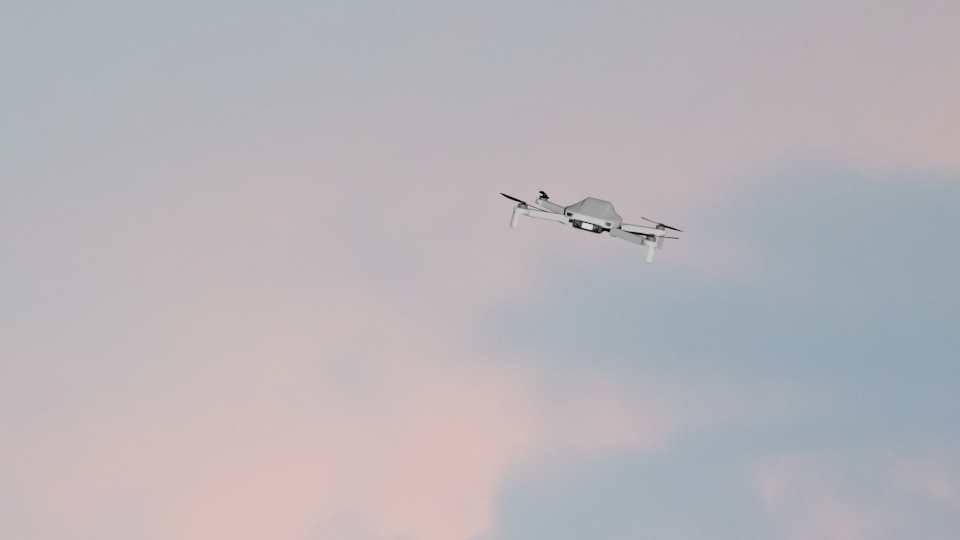drone: (501, 187, 683, 261)
